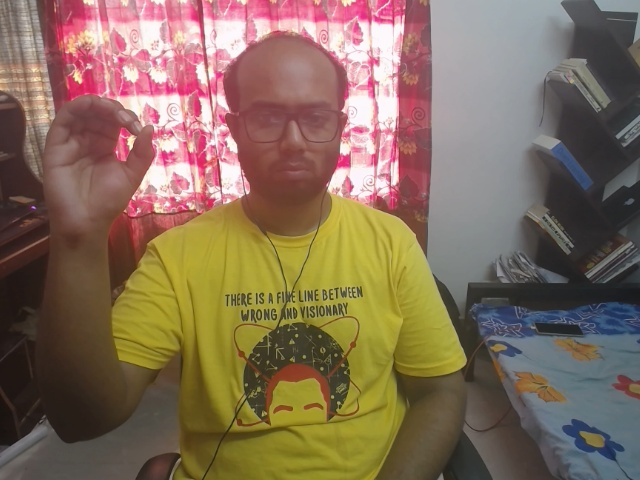zero: (23, 94, 201, 266)
